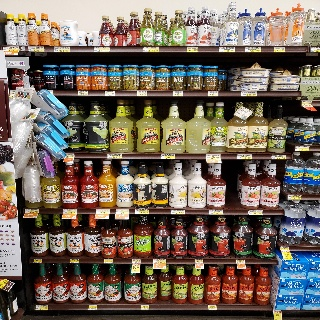All PRICE TAGS: (29, 46, 45, 52), (54, 46, 70, 52), (3, 46, 19, 51), (143, 47, 159, 52), (219, 47, 235, 52), (245, 47, 261, 52), (248, 210, 263, 215), (94, 47, 109, 52), (242, 91, 257, 96), (237, 154, 252, 159), (209, 210, 223, 215), (171, 209, 185, 214), (135, 209, 149, 214), (116, 209, 130, 214), (310, 46, 320, 53), (296, 146, 310, 151), (288, 195, 302, 200), (25, 209, 39, 214), (96, 209, 110, 214), (35, 305, 48, 310), (160, 154, 175, 158), (108, 154, 122, 158), (206, 154, 220, 158), (272, 155, 286, 159), (63, 209, 77, 213), (274, 46, 285, 51), (137, 91, 148, 96), (208, 91, 219, 96), (105, 91, 115, 96), (173, 91, 183, 96), (88, 305, 97, 310), (302, 101, 311, 106), (33, 258, 42, 263), (187, 47, 198, 51), (141, 305, 149, 310), (78, 91, 88, 95), (153, 260, 166, 263), (236, 259, 245, 263), (195, 259, 204, 263), (132, 259, 141, 263), (70, 259, 79, 263), (280, 246, 289, 250), (65, 154, 74, 158), (104, 259, 112, 263), (272, 309, 282, 312), (209, 306, 216, 310)
